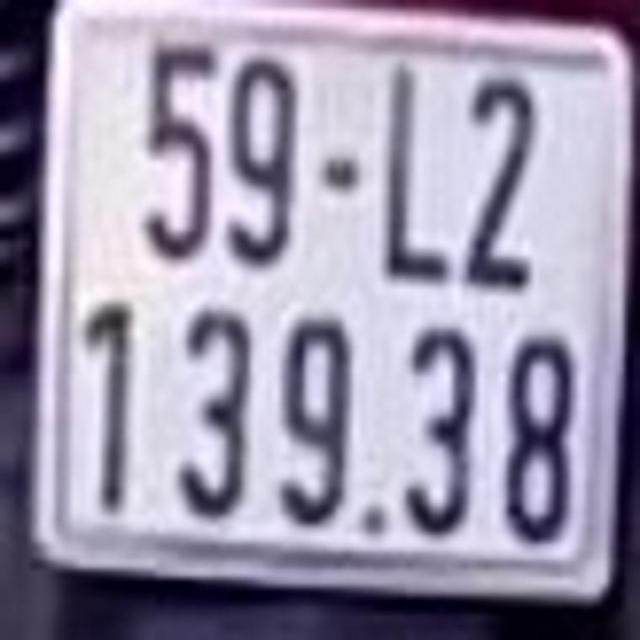1: (76, 297, 144, 520)
2: (462, 68, 535, 302)
3: (176, 300, 251, 524), (402, 314, 473, 545)
5: (145, 36, 215, 263)
8: (498, 324, 578, 551)
9: (278, 304, 350, 534), (224, 43, 296, 272)
L: (373, 58, 451, 292)
